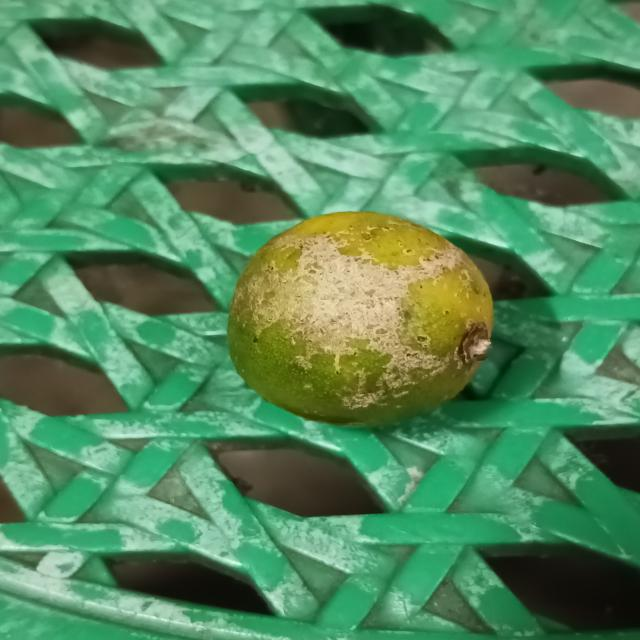thrips: (228, 207, 507, 428)
